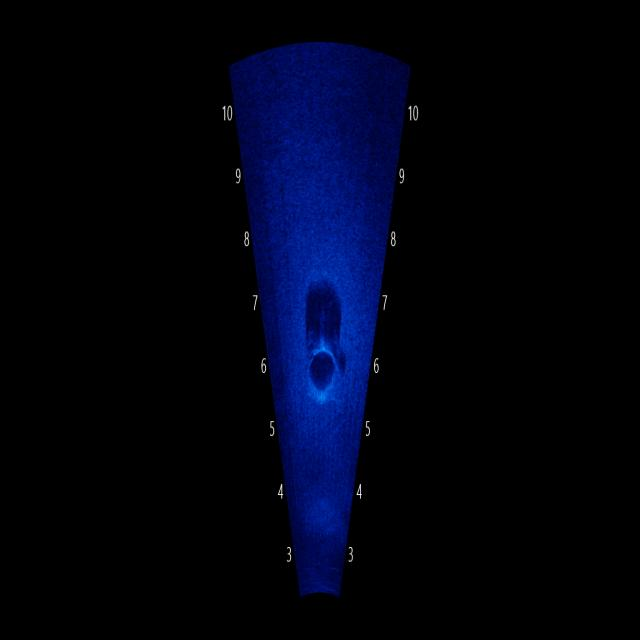circle: (291, 330, 350, 418)
